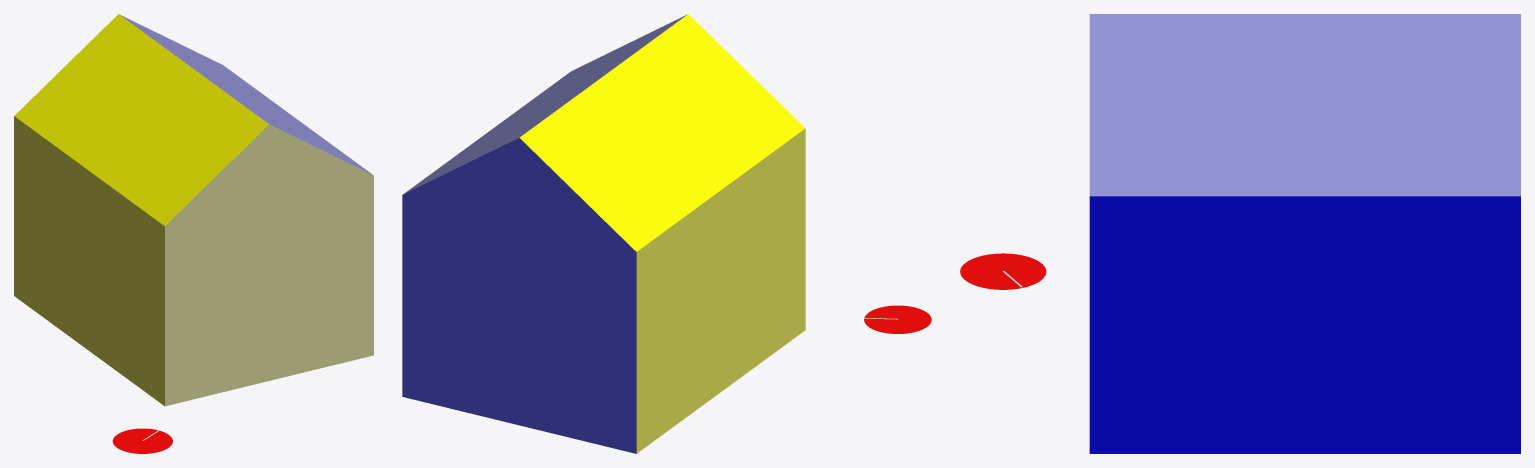
The model's file is result.glb.
3 views of the same model, side by side, from view 1: azimuth 30°, elevation 25°; view 2: azimuth 150°, elevation 25°; view 3: azimuth 270°, elevation 25° (orthographic). The views are drawn at different scales.
Visible parts, largest first — view 1: bdb36da2-6be8-4798-9336-19635119bfae__undefined, 951f955e-ae24-4e40-addb-24d0c721c4ef__undefined, ac7ae19f-2702-4b11-a680-bc20ea7e5a2d__undefined, 0892fd25-d097-4ea9-986b-2897cb16c8da__undefined, 2436b4b4-ccf9-4362-b579-e2213dcacd2f__Circle; view 2: 3929aaae-9006-432b-b103-783e1d125c6f__undefined, 951f955e-ae24-4e40-addb-24d0c721c4ef__undefined, ac7ae19f-2702-4b11-a680-bc20ea7e5a2d__undefined, 0892fd25-d097-4ea9-986b-2897cb16c8da__undefined, 2436b4b4-ccf9-4362-b579-e2213dcacd2f__Circle; view 3: 360df171-15af-4aa2-a5a2-c294354e9dd0__undefined, 0892fd25-d097-4ea9-986b-2897cb16c8da__undefined, 2436b4b4-ccf9-4362-b579-e2213dcacd2f__Circle.
Part boxes in pixels (bbox=[...]): bdb36da2-6be8-4798-9336-19635119bfae__undefined: bbox=[165, 124, 373, 406]; 951f955e-ae24-4e40-addb-24d0c721c4ef__undefined: bbox=[14, 116, 164, 405]; ac7ae19f-2702-4b11-a680-bc20ea7e5a2d__undefined: bbox=[14, 14, 268, 225]; 0892fd25-d097-4ea9-986b-2897cb16c8da__undefined: bbox=[119, 14, 372, 174]; 2436b4b4-ccf9-4362-b579-e2213dcacd2f__Circle: bbox=[112, 428, 172, 453]; 3929aaae-9006-432b-b103-783e1d125c6f__undefined: bbox=[402, 138, 636, 453]; 951f955e-ae24-4e40-addb-24d0c721c4ef__undefined: bbox=[636, 128, 805, 453]; ac7ae19f-2702-4b11-a680-bc20ea7e5a2d__undefined: bbox=[519, 14, 805, 251]; 0892fd25-d097-4ea9-986b-2897cb16c8da__undefined: bbox=[403, 14, 687, 194]; 2436b4b4-ccf9-4362-b579-e2213dcacd2f__Circle: bbox=[864, 305, 931, 333]; 360df171-15af-4aa2-a5a2-c294354e9dd0__undefined: bbox=[1089, 196, 1520, 453]; 0892fd25-d097-4ea9-986b-2897cb16c8da__undefined: bbox=[1089, 14, 1520, 196]; 2436b4b4-ccf9-4362-b579-e2213dcacd2f__Circle: bbox=[960, 253, 1046, 289].
Size of the model in its own units: 550 by 469 by 650.
